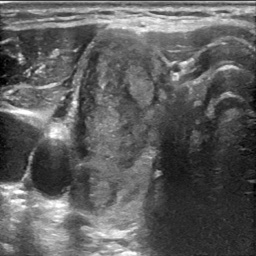mass: (79, 34, 161, 169)
